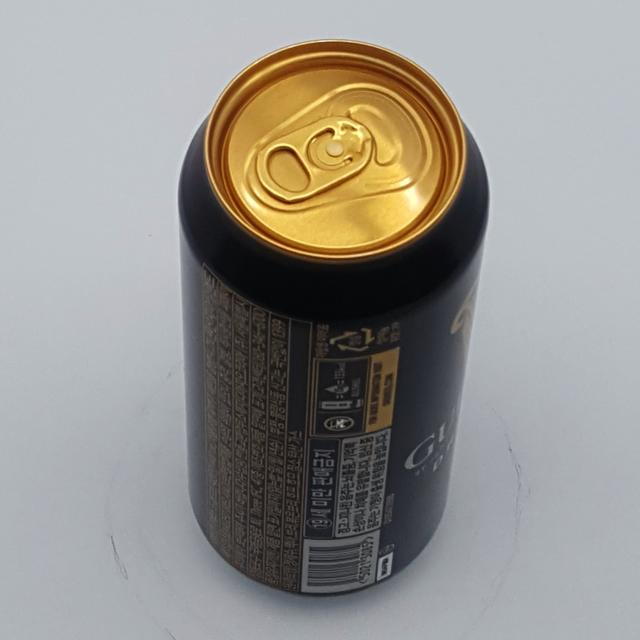beer-can: (177, 39, 490, 596)
